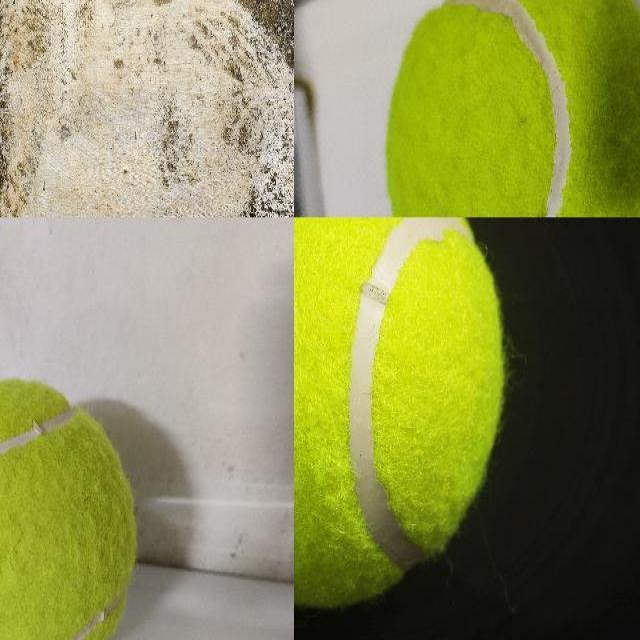tennis-ball: (294, 217, 505, 611), (382, 0, 639, 216), (0, 377, 139, 639)
